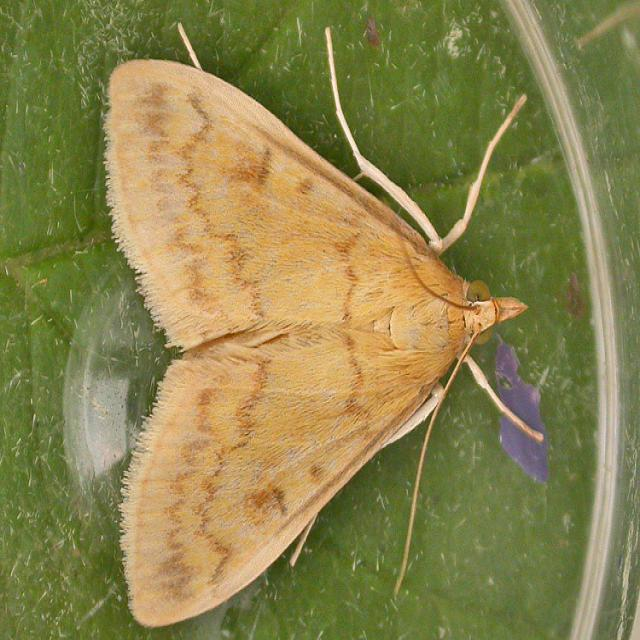cornborer-Adult-: (86, 34, 541, 636)
